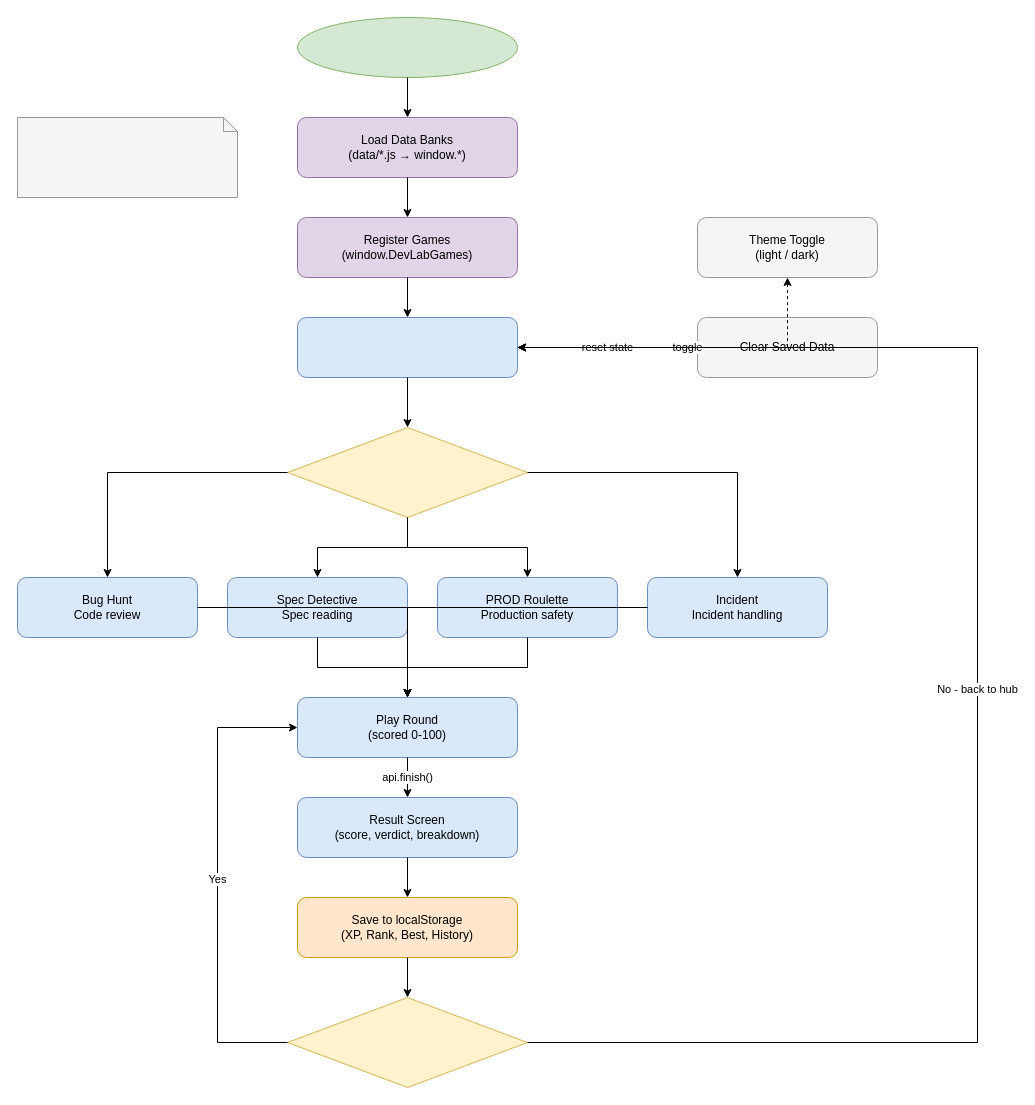
Some shapes in this 1035 by 1105 pixel diagram are drawn without their labels. The centre of each missing label's shape, as x and y in pixels:
"Hub Screen (game list, rank, XP, history)" goes at (407,347).
"No server, no build step. State lives only in this browser." goes at (127,157).
"Open index.html (file://)" goes at (407,47).
"Replay?" goes at (407,1042).
"Select Game" goes at (407,472).
